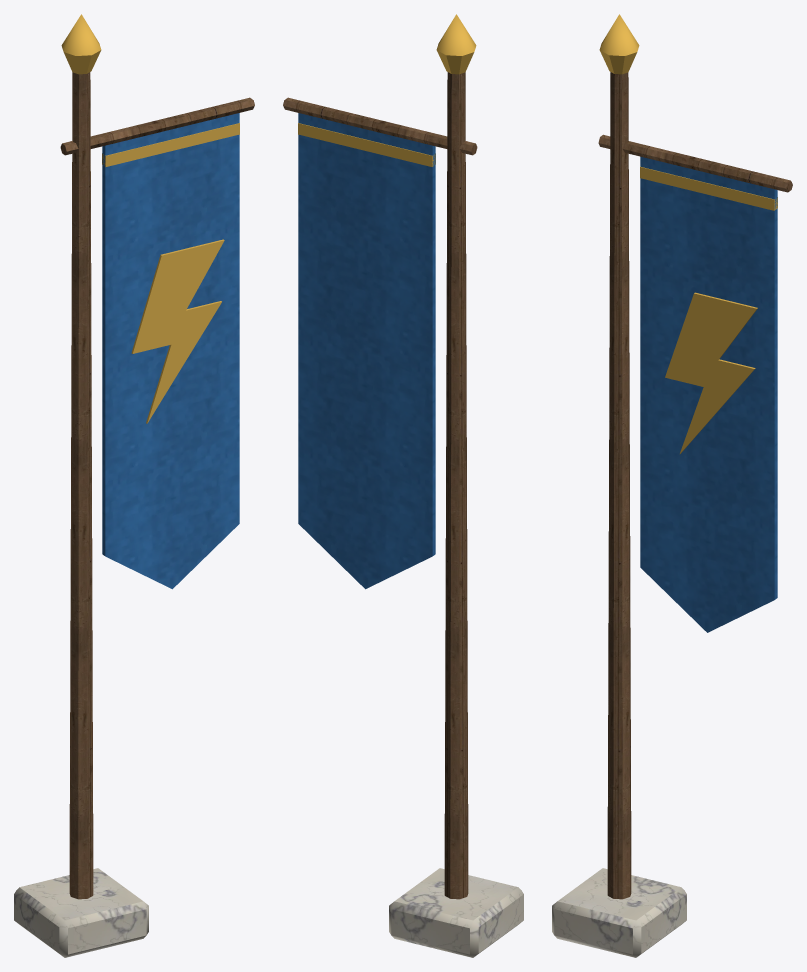
The model's file is decor_banner_t1_azure.glb.
3 renders of one model, left to right at view 1: azimuth 30°, elevation 25°; view 2: azimuth 150°, elevation 25°; view 3: azimuth 330°, elevation 25°, orthographic.
Parts seen in each view (by area): view 1: cloth_azure, wood_dark, gold, step; view 2: cloth_azure, wood_dark, step, gold; view 3: cloth_azure, wood_dark, gold, step.
Boxes of the visible parts, x1,y1,x2,y2 form: cloth_azure: (102, 113, 239, 589); wood_dark: (60, 72, 254, 899); gold: (61, 14, 239, 423); step: (14, 868, 148, 957); cloth_azure: (298, 113, 435, 589); wood_dark: (283, 72, 477, 899); step: (389, 868, 523, 957); gold: (298, 14, 476, 166); cloth_azure: (640, 156, 777, 632); wood_dark: (598, 72, 792, 899); gold: (599, 14, 777, 453); step: (552, 868, 686, 957).
Bounding box in the file's own units: 1.21 × 4.9 × 0.5.
4 materials, 3 textured.
